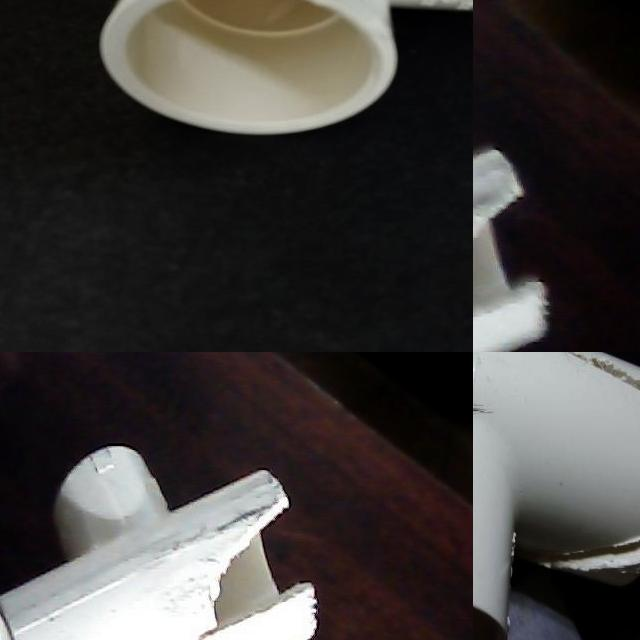Defective: (167, 496, 319, 640), (473, 178, 557, 352), (561, 352, 640, 441), (539, 531, 640, 591)
T Joint: (0, 448, 320, 640)
